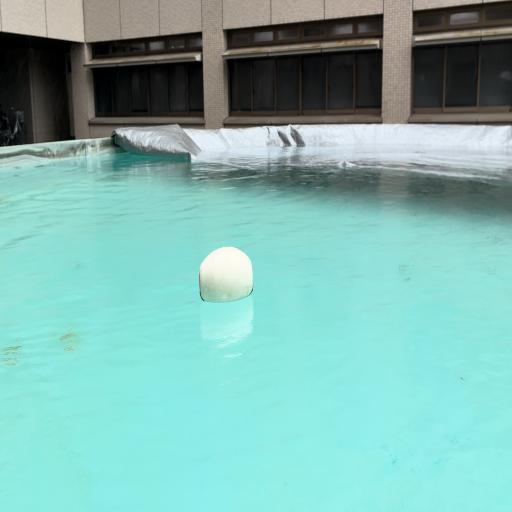white buoy: (200, 246, 254, 304)
